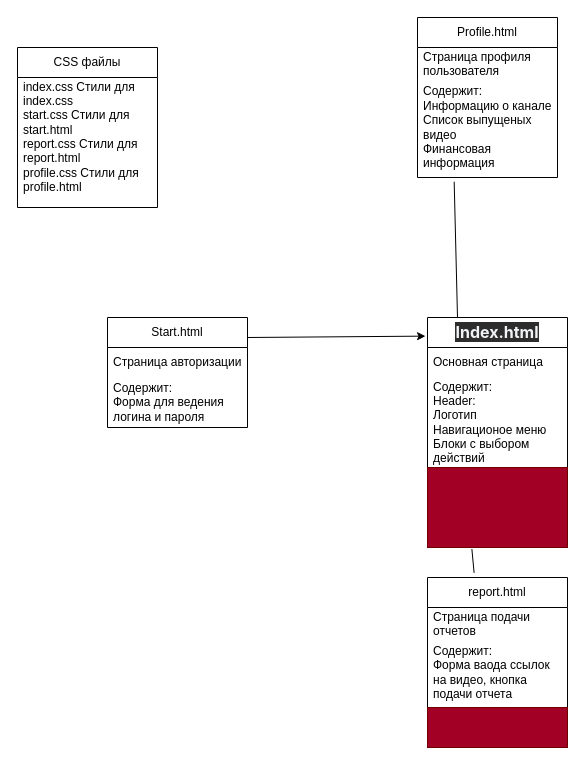
Some shapes in this 585 by 765 pixel diagram are drawn without their labels. Each missing label, with the box of its shape:
Область для отображения уведомлений о новых коментариях и событиях: (426, 466, 568, 548)
Раздел коментариев Поисковой фильтр: (426, 706, 568, 748)
